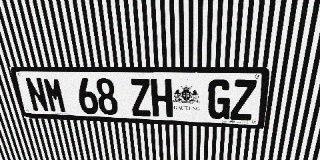6: (75, 78, 100, 114)
8: (95, 78, 119, 115)
G: (207, 79, 232, 120)
H: (150, 79, 173, 117)
M: (42, 77, 68, 113)
N: (24, 77, 50, 112)
Z: (230, 80, 257, 121), (129, 78, 152, 116)
